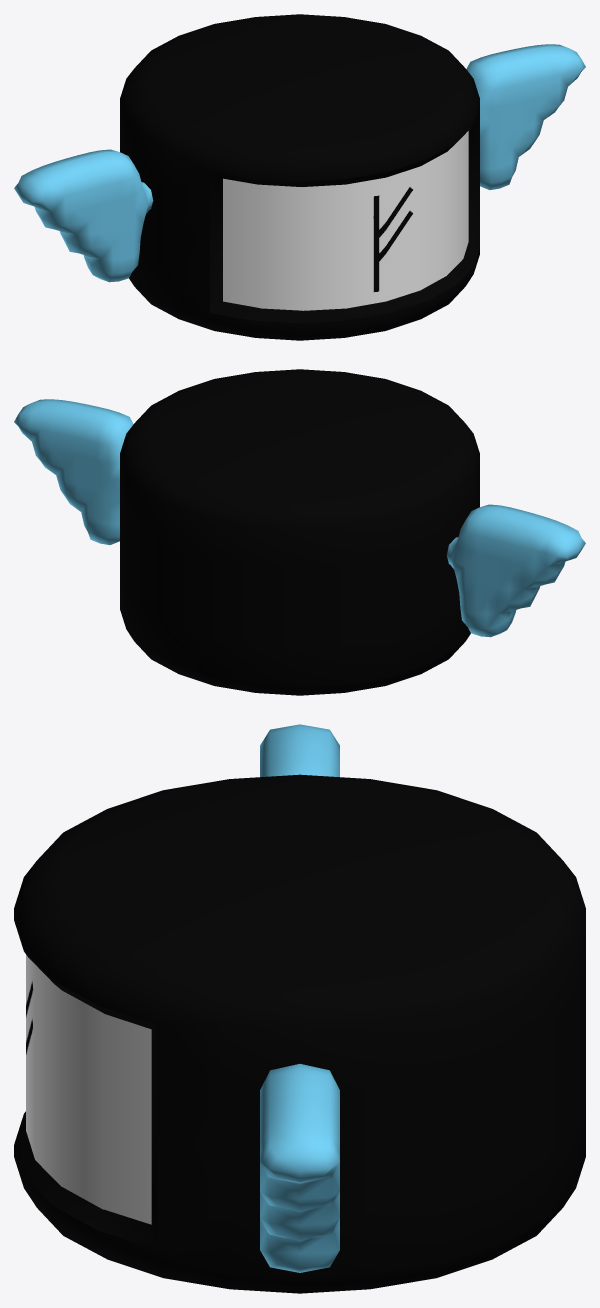
The model's file is penguintotem_rune1.FBX.
3 renders of one model, top to bottom at view 1: azimuth 30°, elevation 25°; view 2: azimuth 150°, elevation 25°; view 3: azimuth 270°, elevation 25°, orthographic. The views are drawn at different scales.
Parts seen in each view (by area): view 1: Cylinder001, Cylinder002, Box001; view 2: Cylinder001, Box001; view 3: Cylinder001, Cylinder002, Box001.
Part boxes in pixels (box(x1,y1,x2,y2)): Cylinder001: box(120, 14, 479, 340); Cylinder002: box(223, 131, 468, 310); Box001: box(14, 44, 585, 282); Cylinder001: box(120, 369, 479, 695); Box001: box(14, 399, 585, 637); Cylinder001: box(14, 774, 585, 1293); Cylinder002: box(26, 955, 151, 1224); Box001: box(260, 724, 339, 1272).
Size of the model in its own units: 73.15 by 24.2 by 40.82.
Materials: 3 (3 with a texture image).
